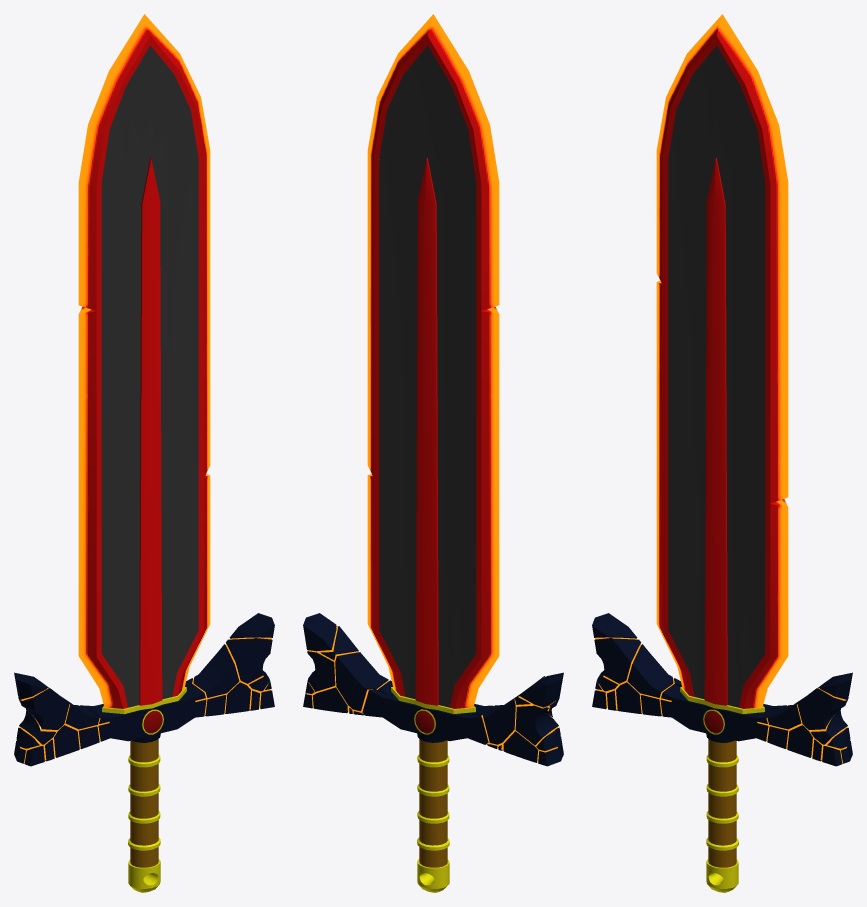
Rendered from ruby_essence_sword.glb.
3 renders of one model, left to right at view 1: azimuth 30°, elevation 25°; view 2: azimuth 150°, elevation 25°; view 3: azimuth 330°, elevation 25°, orthographic.
Parts seen in each view (by area): view 1: Ruby Eclipse; view 2: Ruby Eclipse; view 3: Ruby Eclipse.
Boxes of the visible parts, x1,y1,x2,y2 form: Ruby Eclipse: (14, 14, 274, 892); Ruby Eclipse: (303, 14, 563, 892); Ruby Eclipse: (592, 14, 852, 892).
Bounding box in the file's own units: 1.55 × 5.08 × 0.1902.
1 material, 1 textured.
